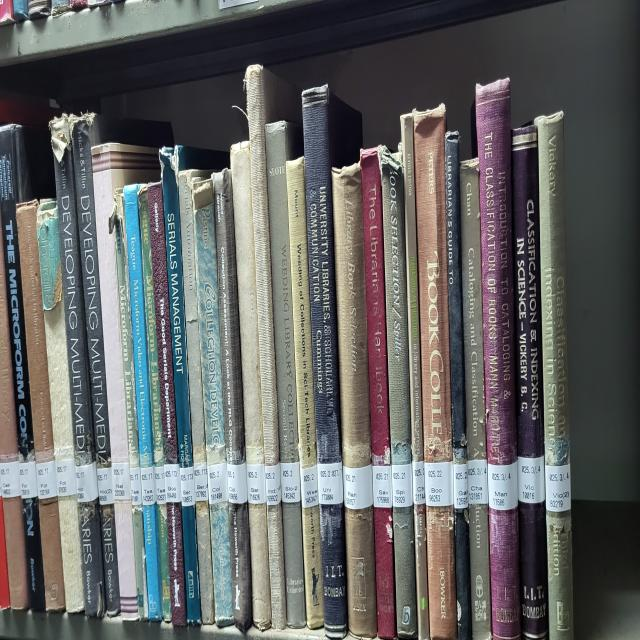Book: (91, 143, 160, 620), (302, 87, 361, 639), (245, 65, 300, 628), (0, 124, 54, 611), (475, 78, 521, 639), (72, 116, 120, 614), (414, 106, 458, 639), (55, 149, 105, 617), (332, 162, 378, 636), (265, 122, 306, 628), (230, 141, 271, 628), (378, 146, 418, 639), (160, 146, 201, 625), (511, 124, 549, 639), (535, 111, 572, 639), (192, 179, 234, 625), (212, 170, 252, 630), (286, 157, 324, 628), (148, 184, 188, 625), (360, 149, 395, 639), (178, 170, 215, 625), (124, 184, 162, 620), (400, 114, 430, 639), (110, 189, 146, 617), (460, 157, 491, 639), (139, 187, 171, 622), (445, 130, 471, 639), (44, 300, 84, 614), (16, 200, 54, 463)
Label: (488, 460, 518, 511), (342, 465, 372, 509), (518, 455, 545, 503), (545, 463, 571, 511), (425, 463, 454, 506), (318, 463, 344, 506), (391, 463, 412, 509), (75, 463, 99, 503), (468, 460, 489, 503), (372, 465, 392, 509), (208, 463, 229, 503), (280, 463, 301, 503), (36, 460, 58, 498), (300, 465, 319, 509), (56, 457, 76, 498), (228, 463, 248, 503), (246, 463, 266, 503), (19, 460, 38, 501), (111, 463, 131, 501), (454, 463, 469, 509), (265, 463, 281, 506), (96, 468, 114, 506), (164, 463, 181, 503), (140, 465, 156, 506), (180, 465, 195, 506), (194, 463, 209, 503), (412, 460, 425, 503), (130, 468, 142, 506), (154, 465, 166, 503)
